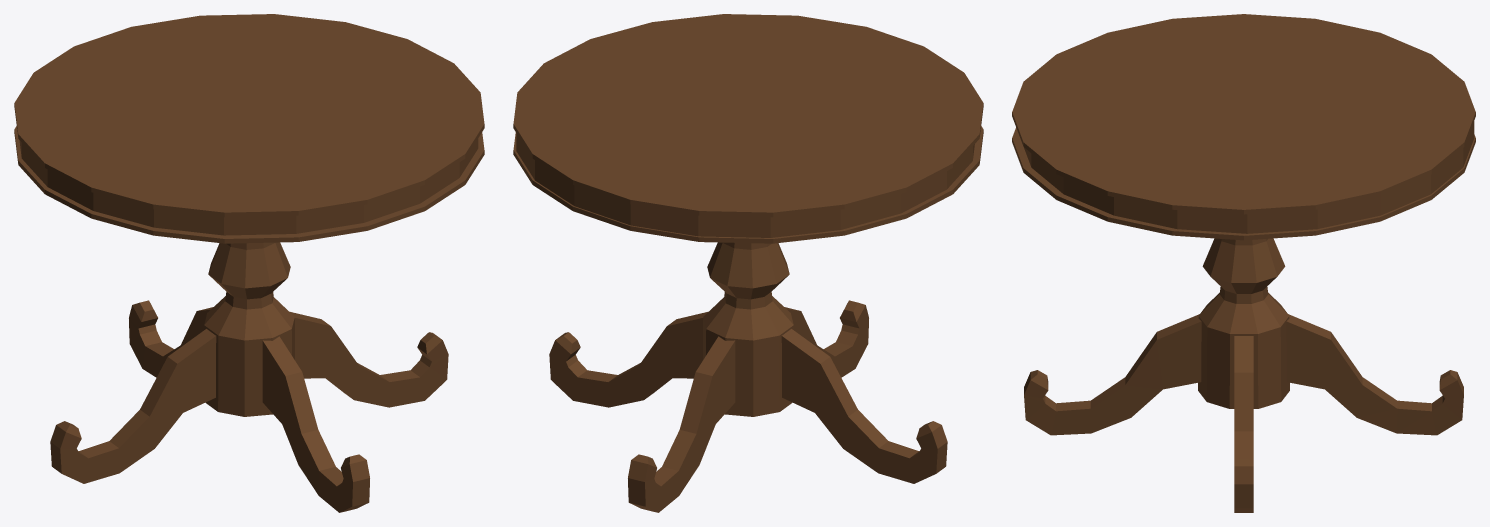
The model's file is cafe_table_bistro.fbx.
3 renders of one model, left to right at view 1: azimuth 30°, elevation 25°; view 2: azimuth 150°, elevation 25°; view 3: azimuth 270°, elevation 25°, orthographic.
Parts seen in each view (by area): view 1: cafe_table_bistro_LOD0; view 2: cafe_table_bistro_LOD0; view 3: cafe_table_bistro_LOD0.
Part boxes in pixels (x1=…): cafe_table_bistro_LOD0: x1=14, y1=14, x2=484, y2=512; cafe_table_bistro_LOD0: x1=513, y1=14, x2=983, y2=512; cafe_table_bistro_LOD0: x1=1012, y1=14, x2=1475, y2=512.
Size of what is drawn, in the model's own units: 1 by 0.76 by 1.
Materials: 1 (1 with a texture image).
